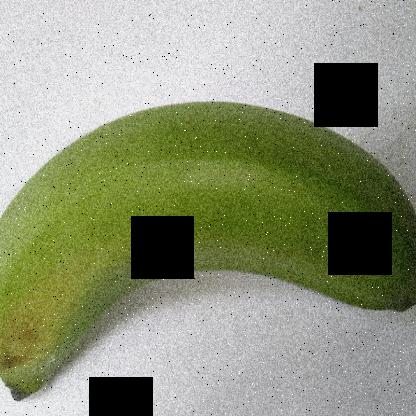freshunripe: (0, 86, 415, 413)
